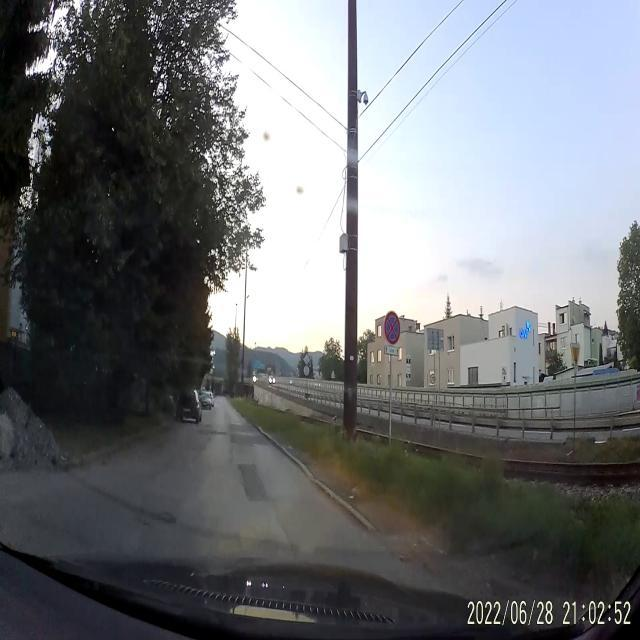Pothole: (152, 508, 176, 528)
